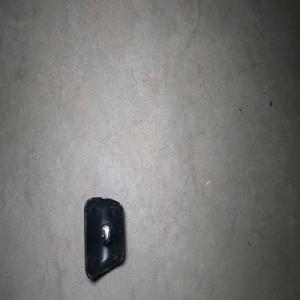LuggagePart: (83, 195, 126, 281)
